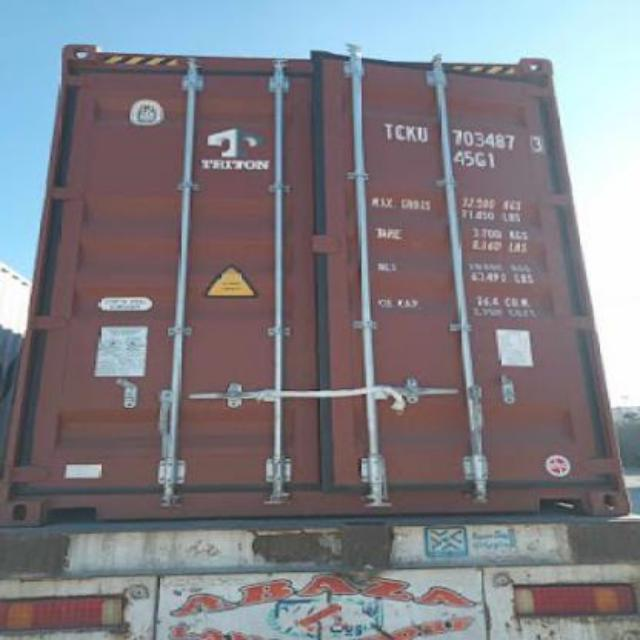0: (464, 127, 474, 147)
3: (530, 134, 546, 156), (474, 126, 486, 150)
4: (484, 129, 494, 153)
7: (452, 124, 464, 148), (506, 129, 516, 153)
8: (496, 130, 504, 152)
C: (396, 120, 406, 150)
K: (404, 121, 416, 142)
T: (382, 118, 394, 144)
U: (414, 122, 430, 148)
